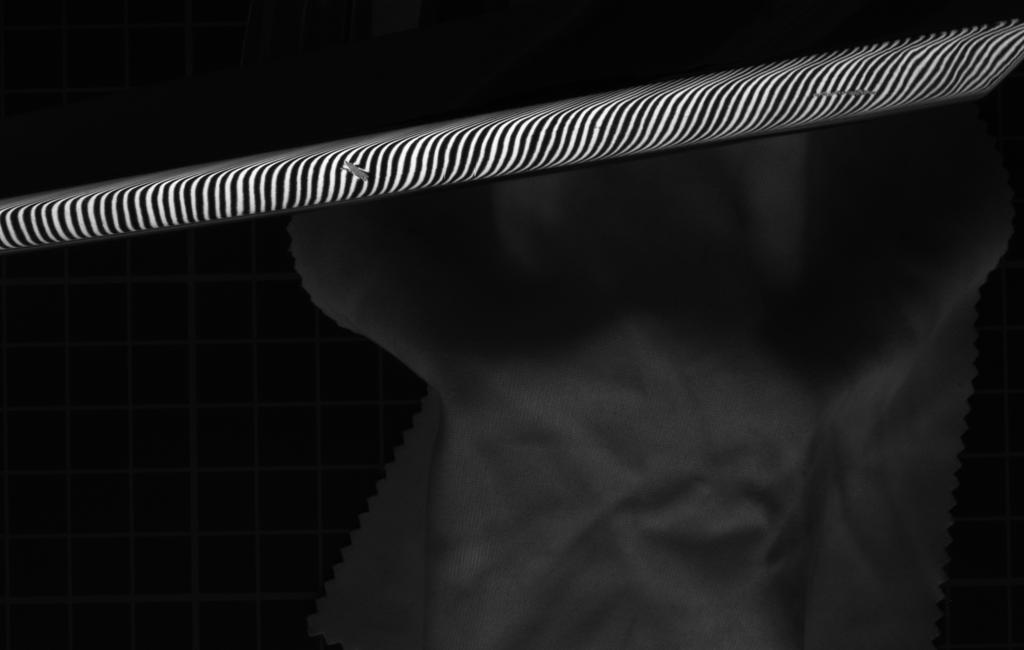Scratch: (799, 83, 893, 103), (337, 156, 379, 186)
